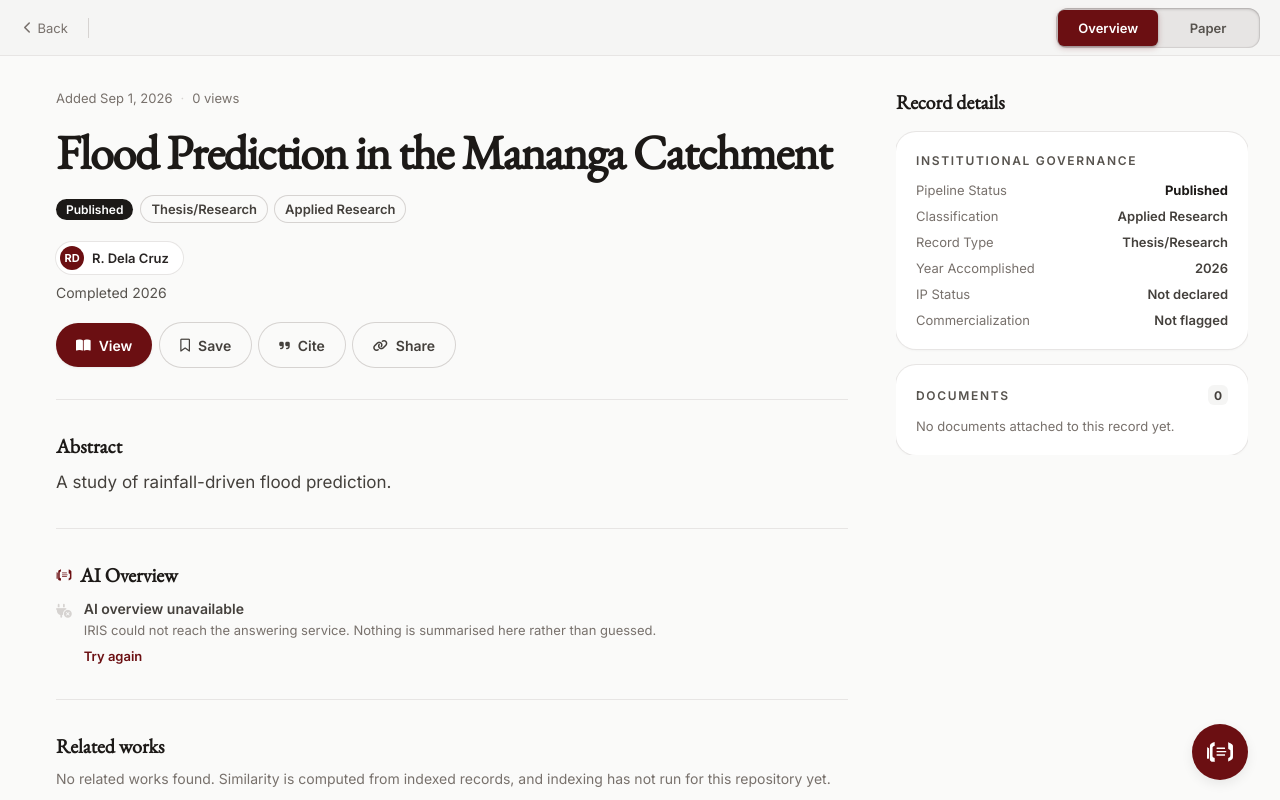
Ask IRIS on Overview (IR-569) › opens from the round icon at the bottom right
Expected: the heading "Flood Prediction in the Mananga Catchment" is shown, [56,128,848,176]
Click the button named "Ask IRIS". click: (1220, 752)
box: [1192,724,1248,780]
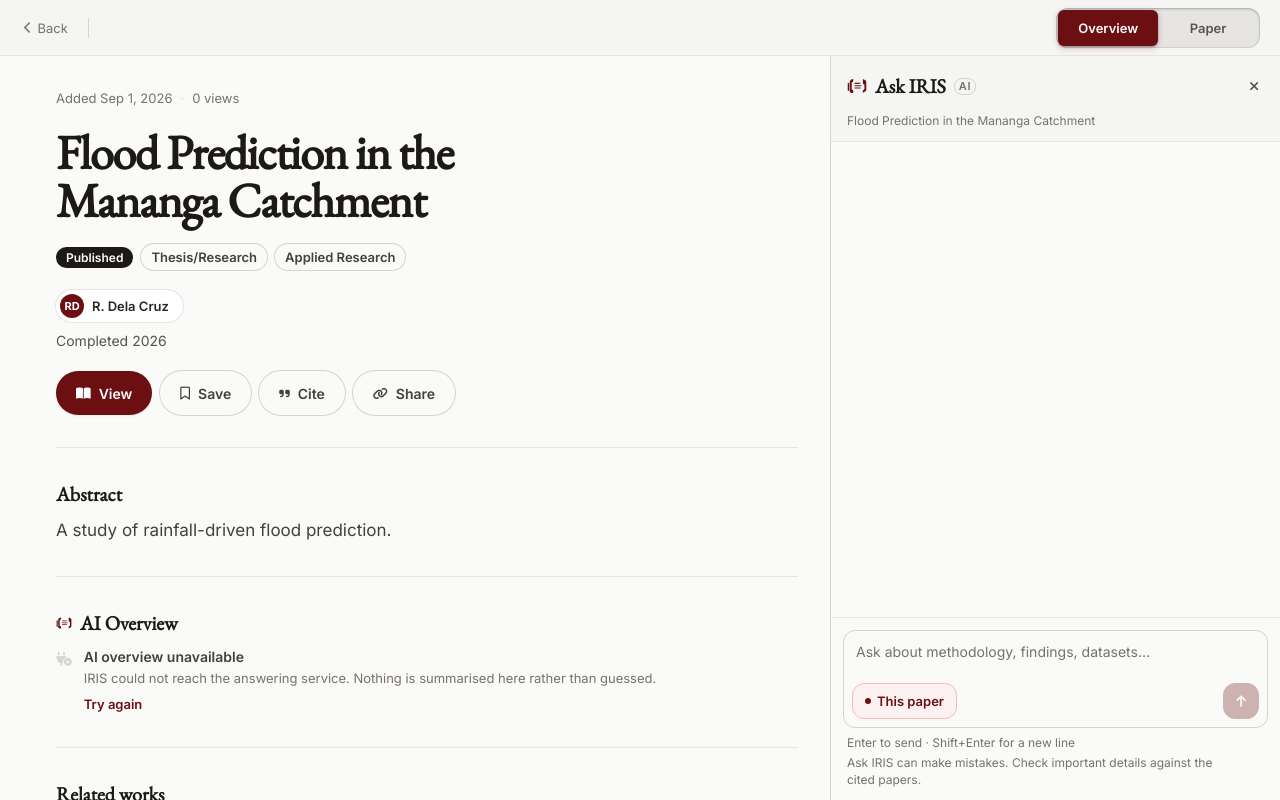
Expected: the element "Ask IRIS" is shown, [830,56,1279,799]
